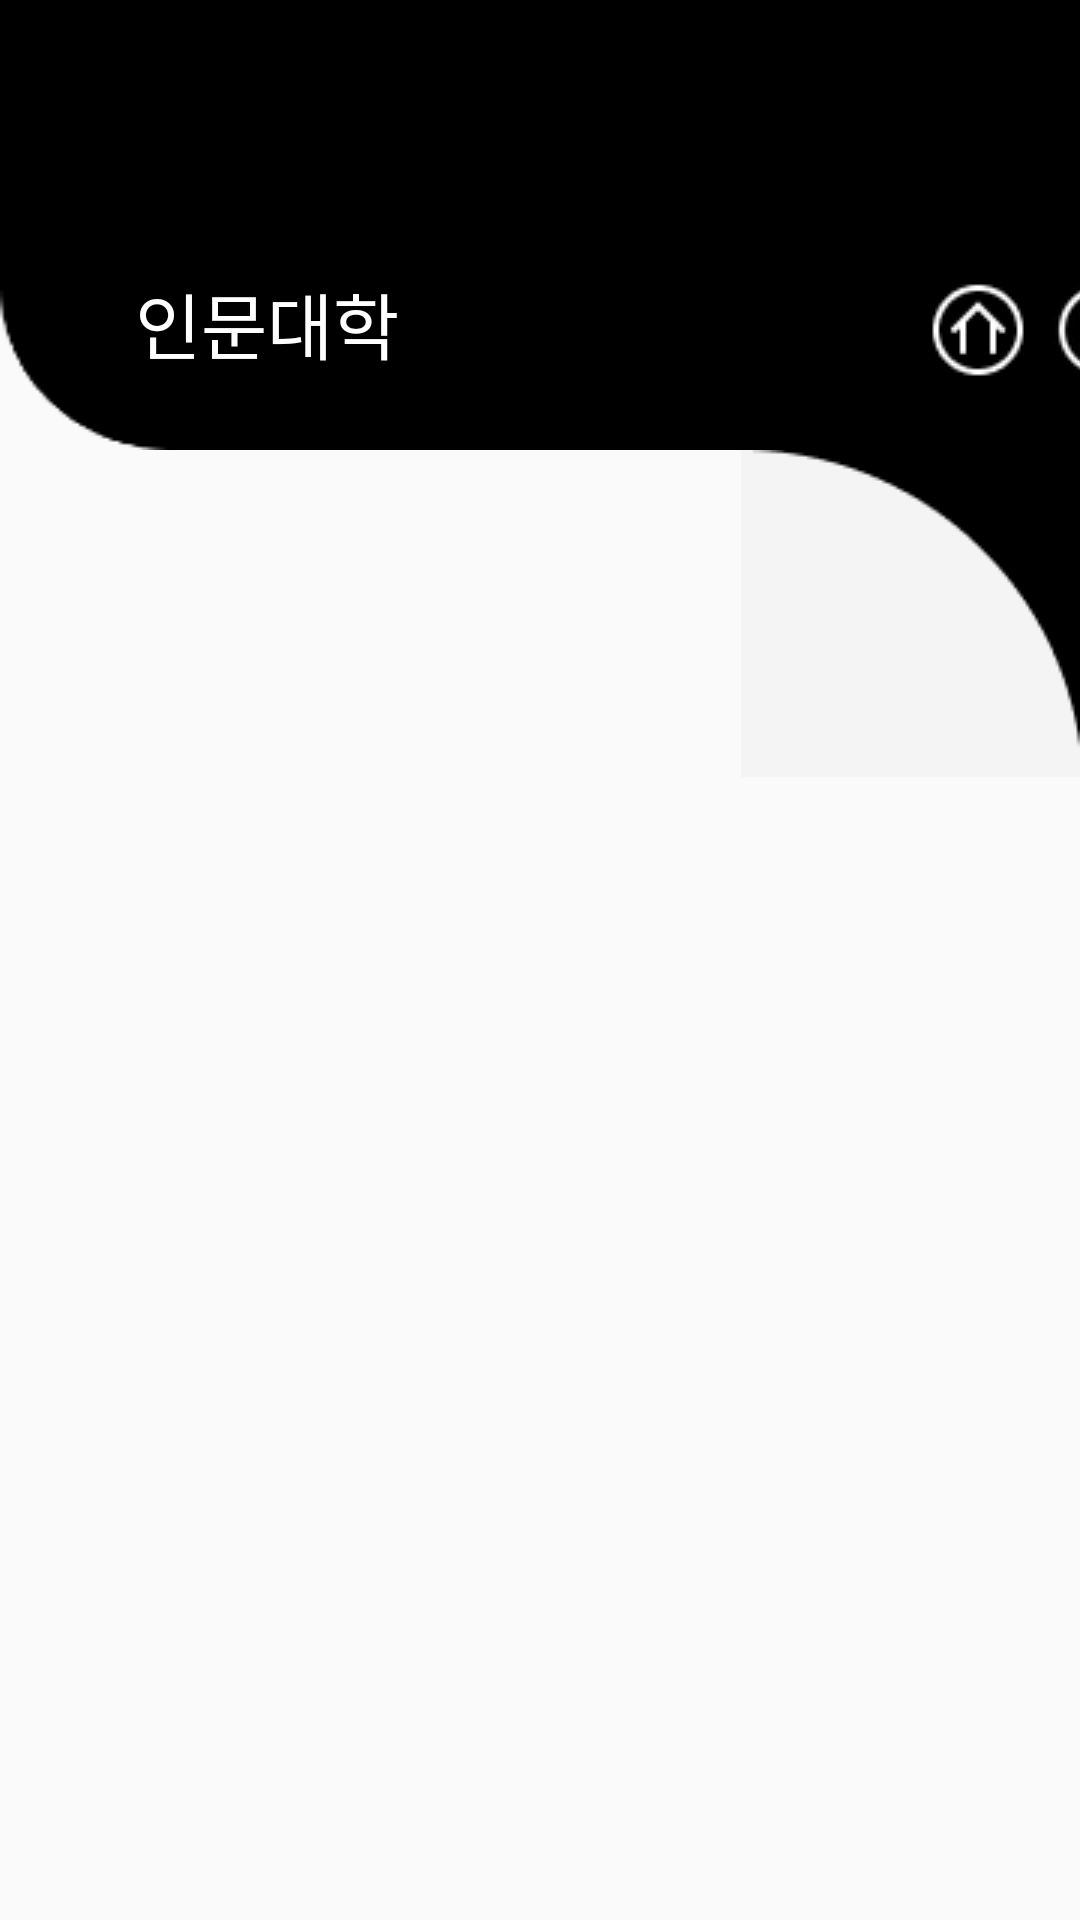

Icon bounding boxes for this 1080 x 1920 phone screenshot, format (x1, y1, x2, y2):
home: (932, 284, 1024, 376)
